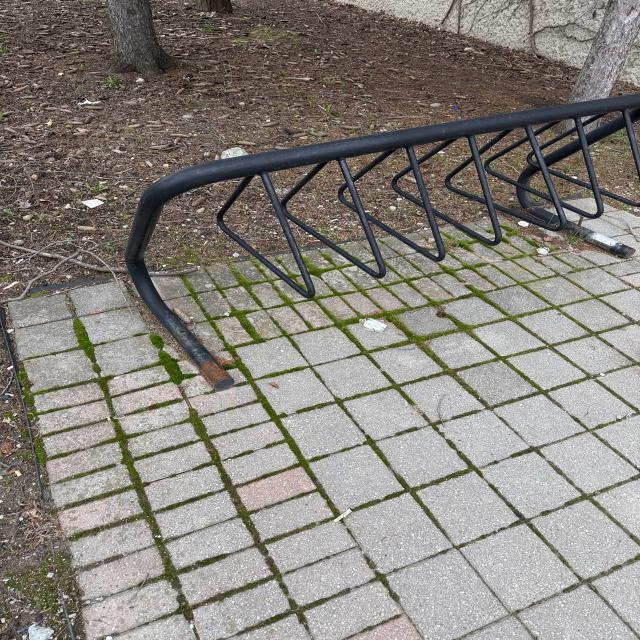Bicycle Rack: (131, 97, 640, 389)
